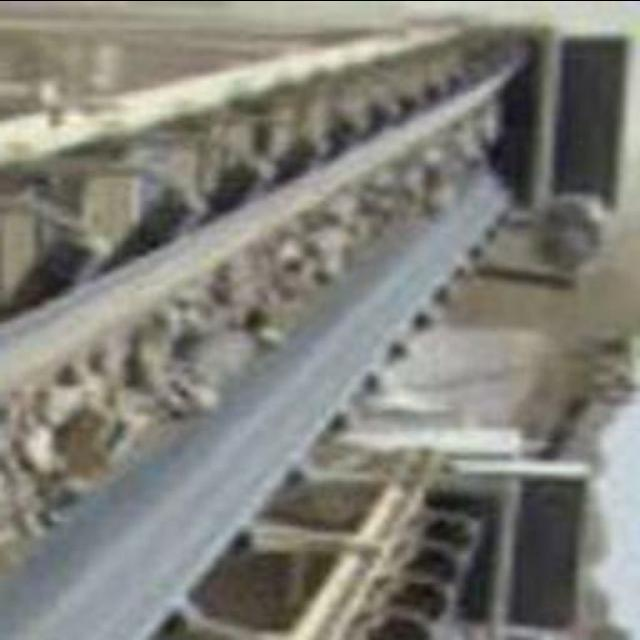conveyor: (0, 77, 509, 640)
